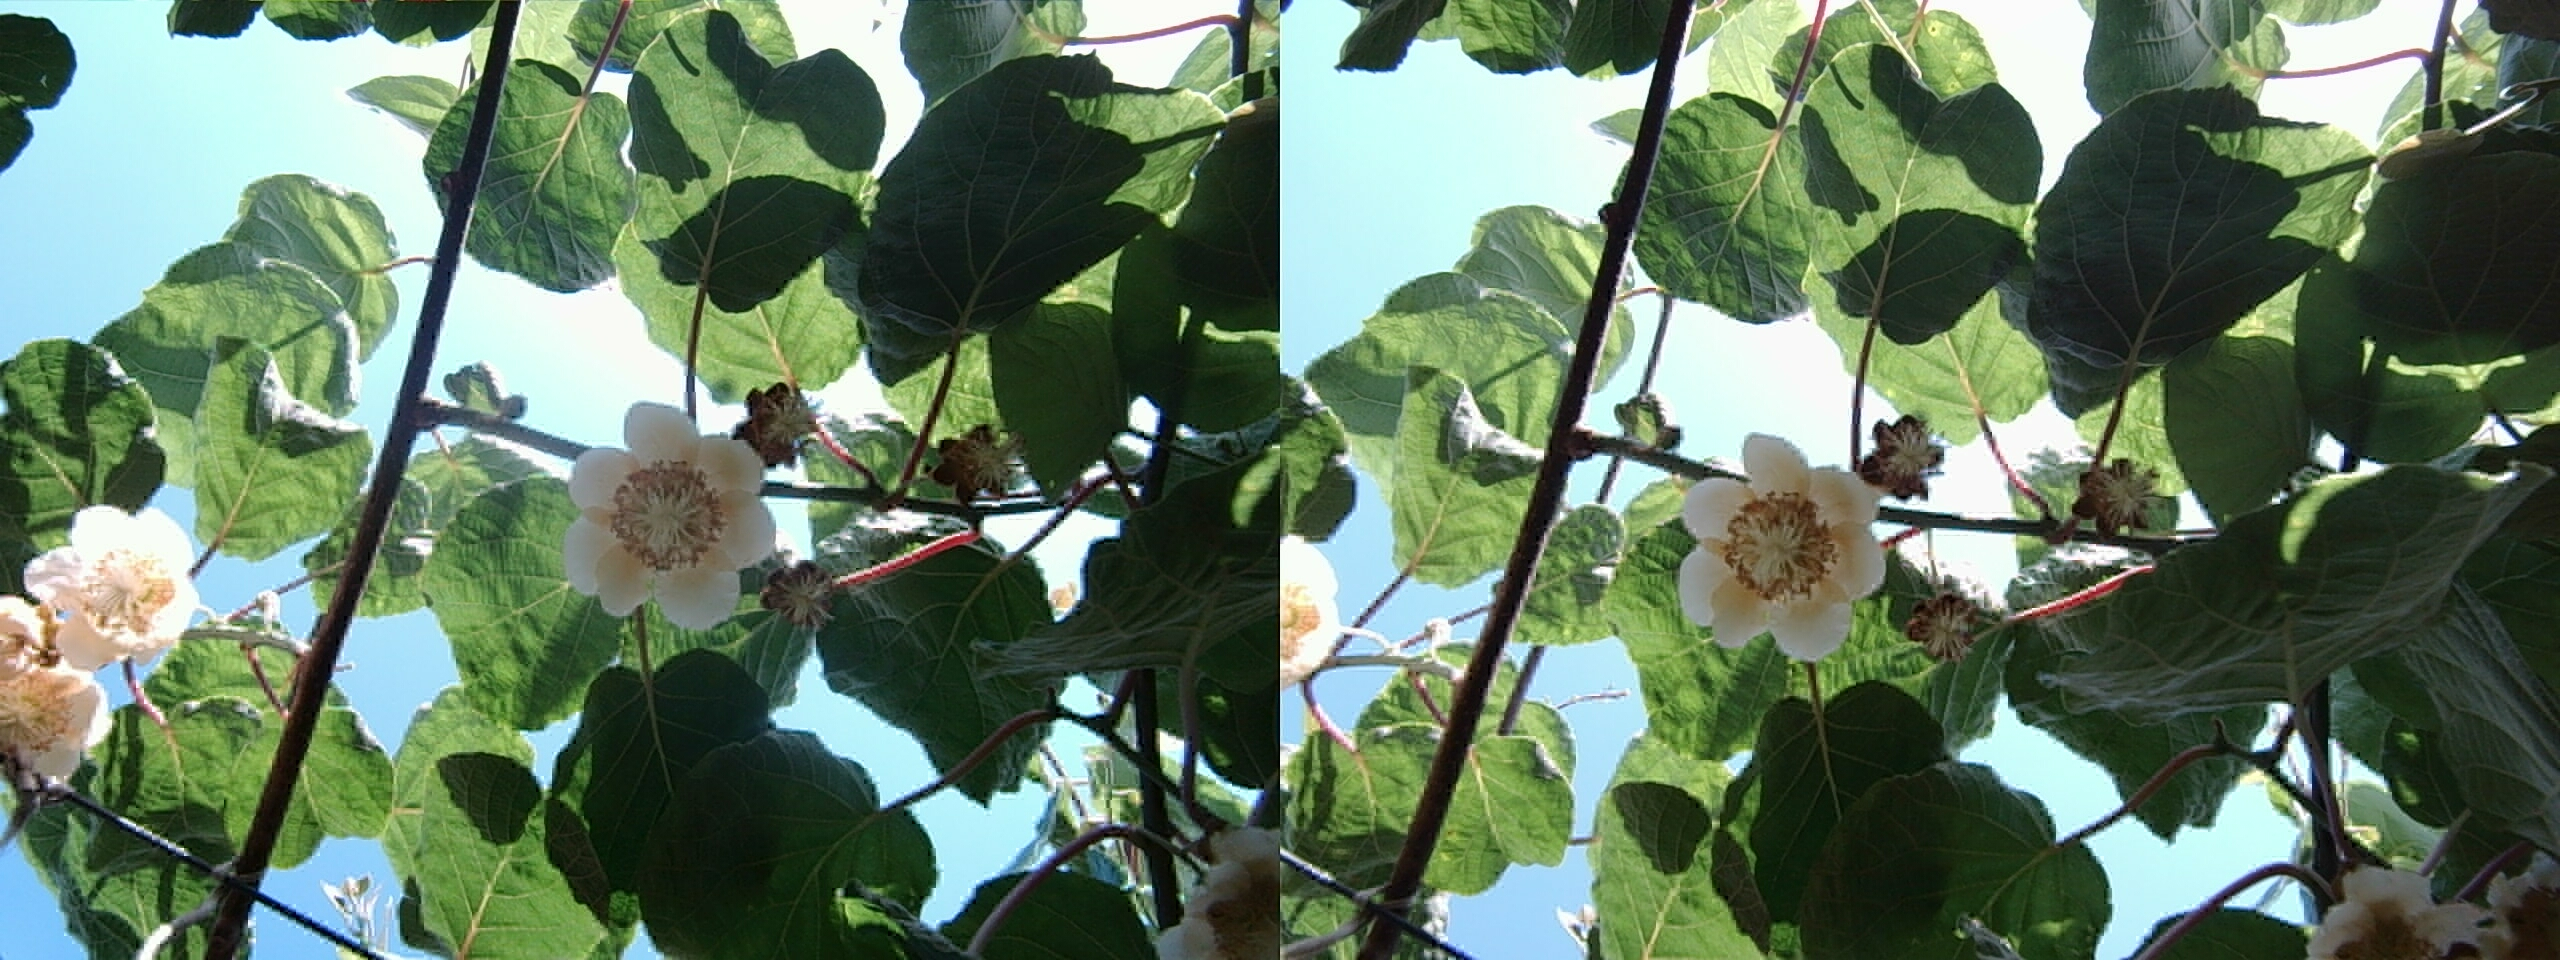flower: (1665, 426, 1910, 664), (550, 392, 784, 625), (13, 506, 199, 669), (0, 606, 114, 780)
